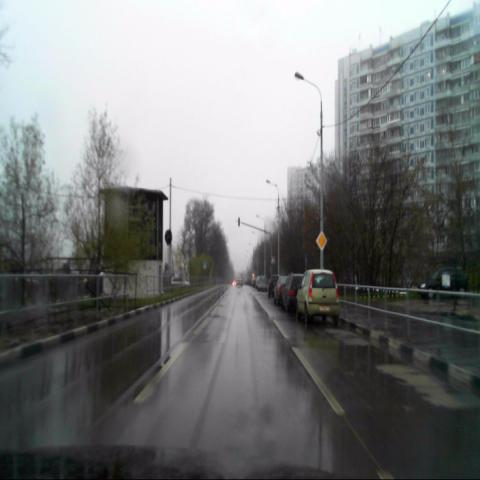2_1: (316, 230, 327, 251)
